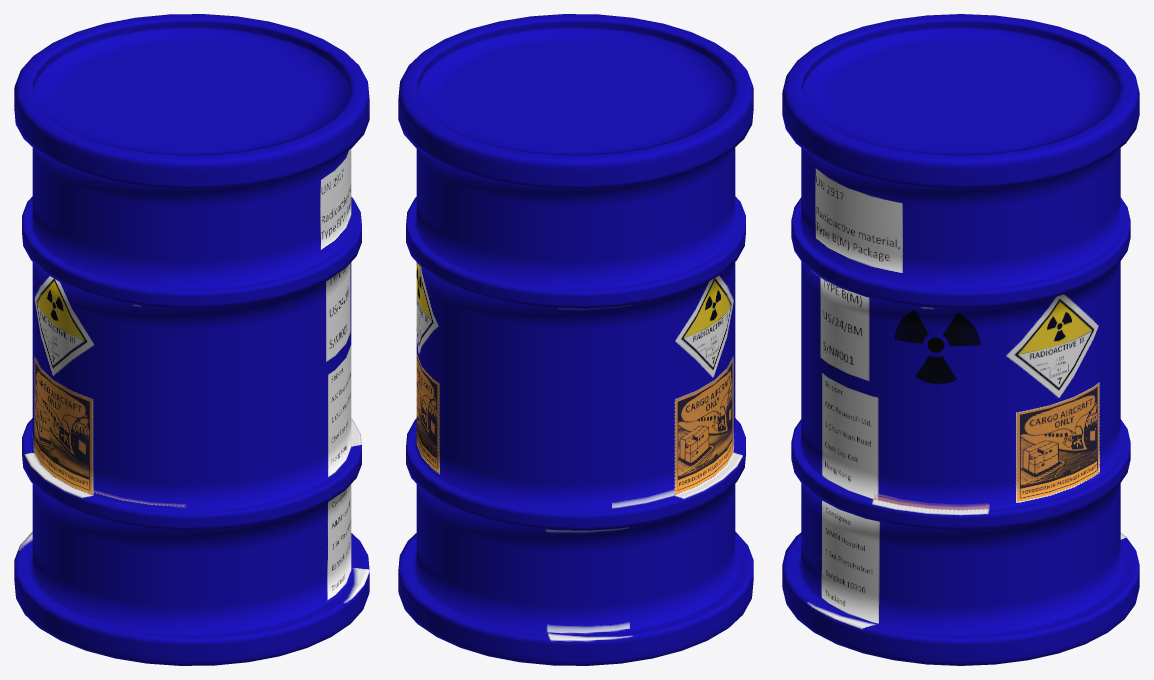
The model's file is barrelpackage_correct.fbx.
3 views of the same model, side by side, from view 1: azimuth 30°, elevation 25°; view 2: azimuth 150°, elevation 25°; view 3: azimuth 270°, elevation 25° (orthographic).
Visible parts, largest first — view 1: Cylinder; view 2: Cylinder; view 3: Cylinder.
Part boxes in pixels (bbox=[...]): Cylinder: bbox=[14, 14, 369, 665]; Cylinder: bbox=[398, 14, 753, 665]; Cylinder: bbox=[782, 14, 1139, 665].
Size of the model in its own units: 201 by 316 by 202.
Materials: 1 (1 with a texture image).
